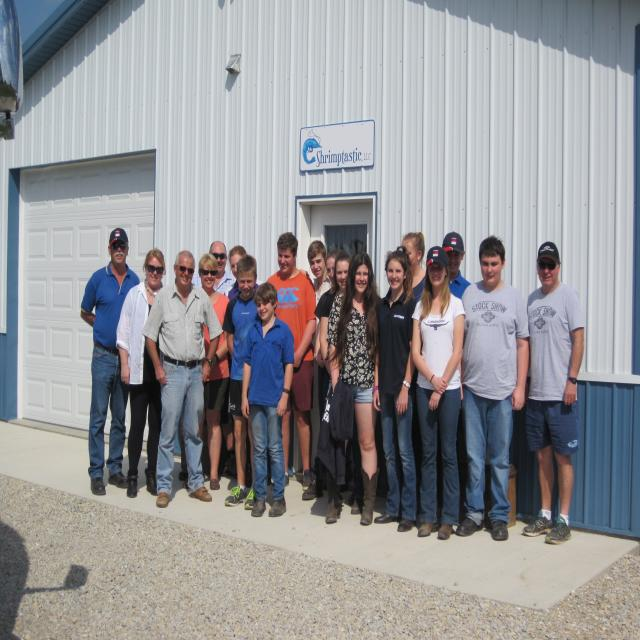body: (454, 233, 531, 542), (139, 248, 225, 509), (520, 238, 585, 544), (410, 245, 468, 541), (79, 225, 142, 497), (325, 251, 380, 528), (261, 232, 318, 493), (371, 243, 421, 534), (240, 280, 296, 520), (116, 246, 168, 499), (318, 250, 364, 518), (225, 255, 265, 508), (198, 253, 232, 492), (416, 229, 474, 309), (298, 240, 332, 340), (191, 240, 237, 295), (222, 245, 260, 302), (401, 232, 428, 305)
